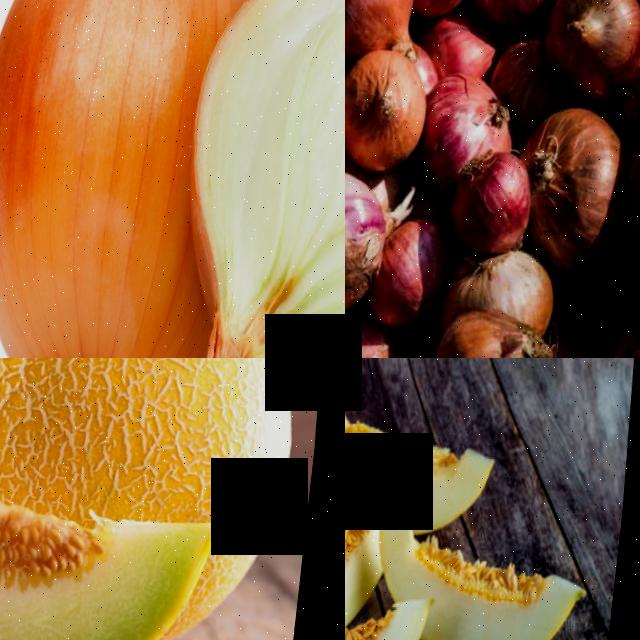melon: (0, 455, 243, 640), (0, 358, 324, 492), (435, 538, 601, 640), (345, 480, 404, 631), (412, 432, 507, 525)
onion: (0, 0, 231, 358), (176, 0, 345, 358), (527, 93, 640, 272), (345, 42, 438, 170), (426, 61, 520, 173), (429, 296, 592, 358), (462, 139, 544, 244), (552, 0, 640, 95), (345, 167, 402, 304), (345, 0, 424, 57)
